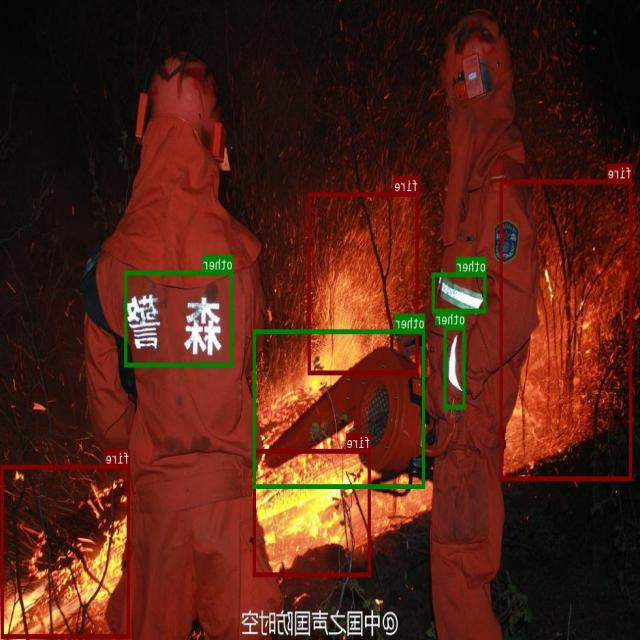fire: (501, 178, 633, 480), (2, 464, 131, 637), (309, 192, 419, 374), (254, 448, 371, 576)
other: (254, 328, 426, 488), (125, 270, 233, 366), (433, 272, 487, 312), (444, 324, 466, 408)
